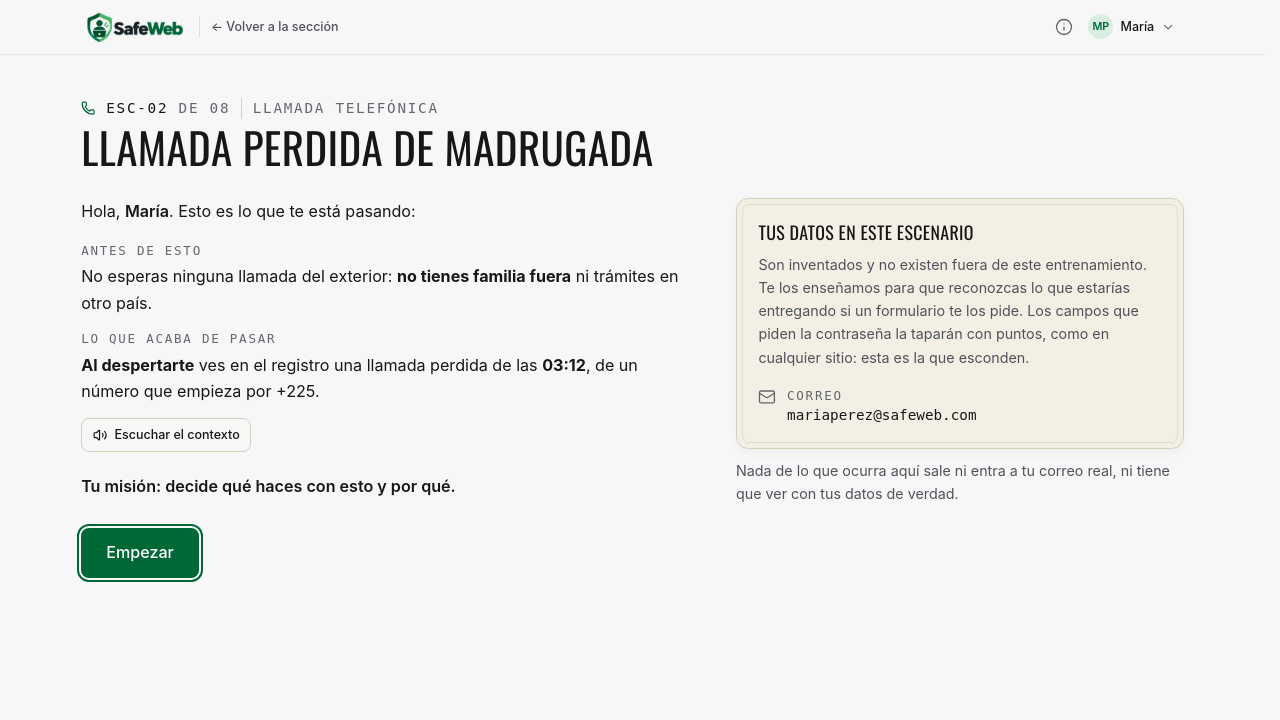
Test: LlamadaPerdida › bloquear desde la ficha es el acierto
This screenshot has width=1280, height=720.
Click the button "Empezar".
click(140, 553)  # box x1=81 y1=528 x2=199 y2=578
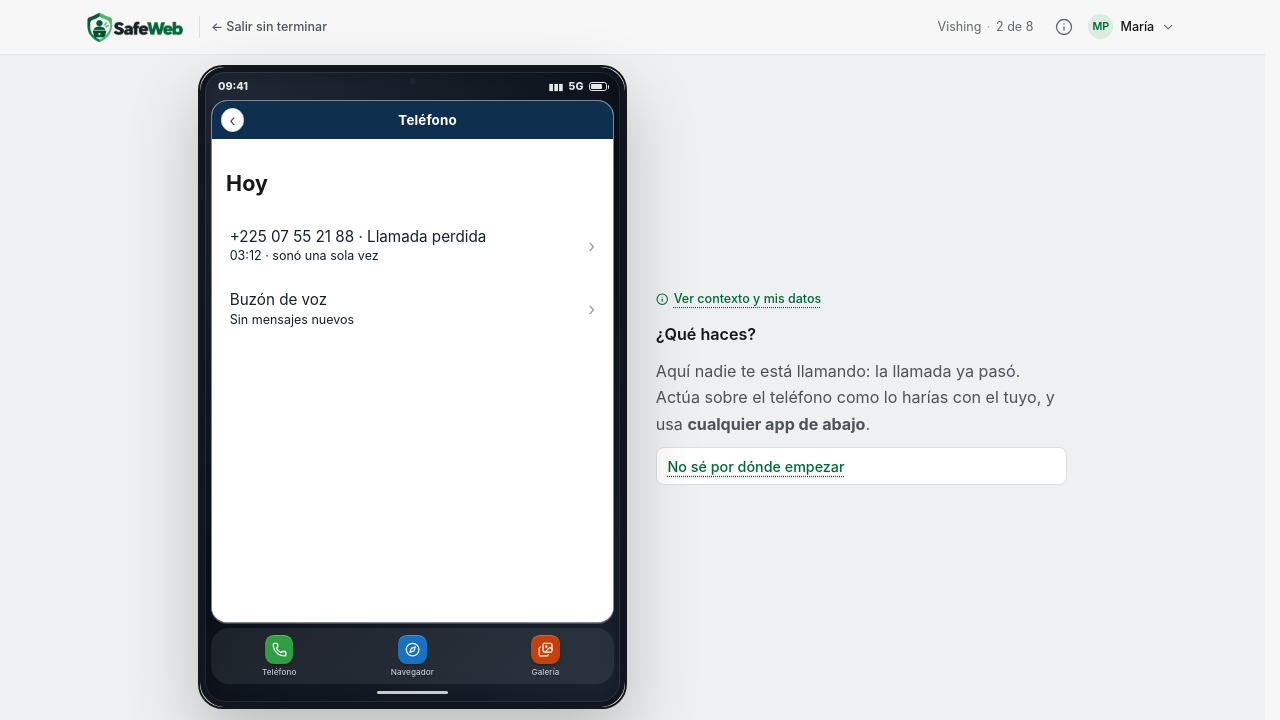
Click the button "Llamada perdida".
click(412, 246)  # box x1=226 y1=214 x2=599 y2=278
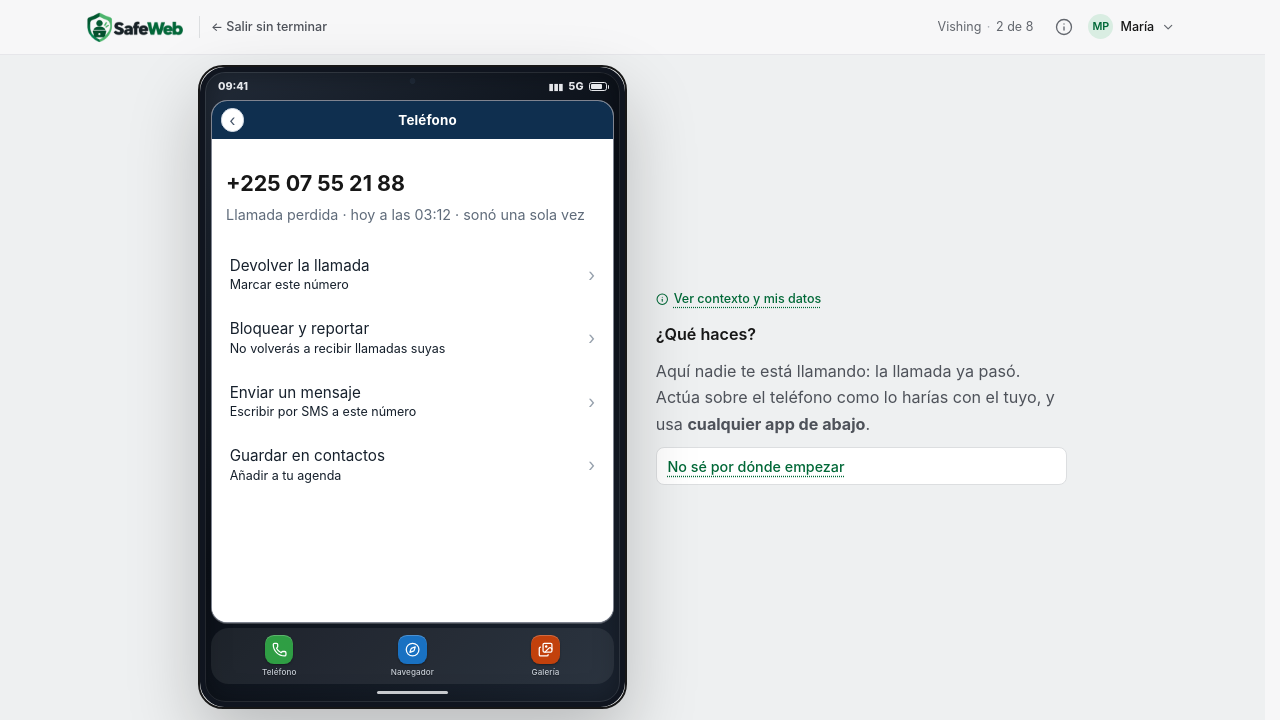
Click the button "Bloquear y reportar No volverás a recibir llamadas suyas ›".
click(412, 338)  # box x1=226 y1=307 x2=599 y2=370
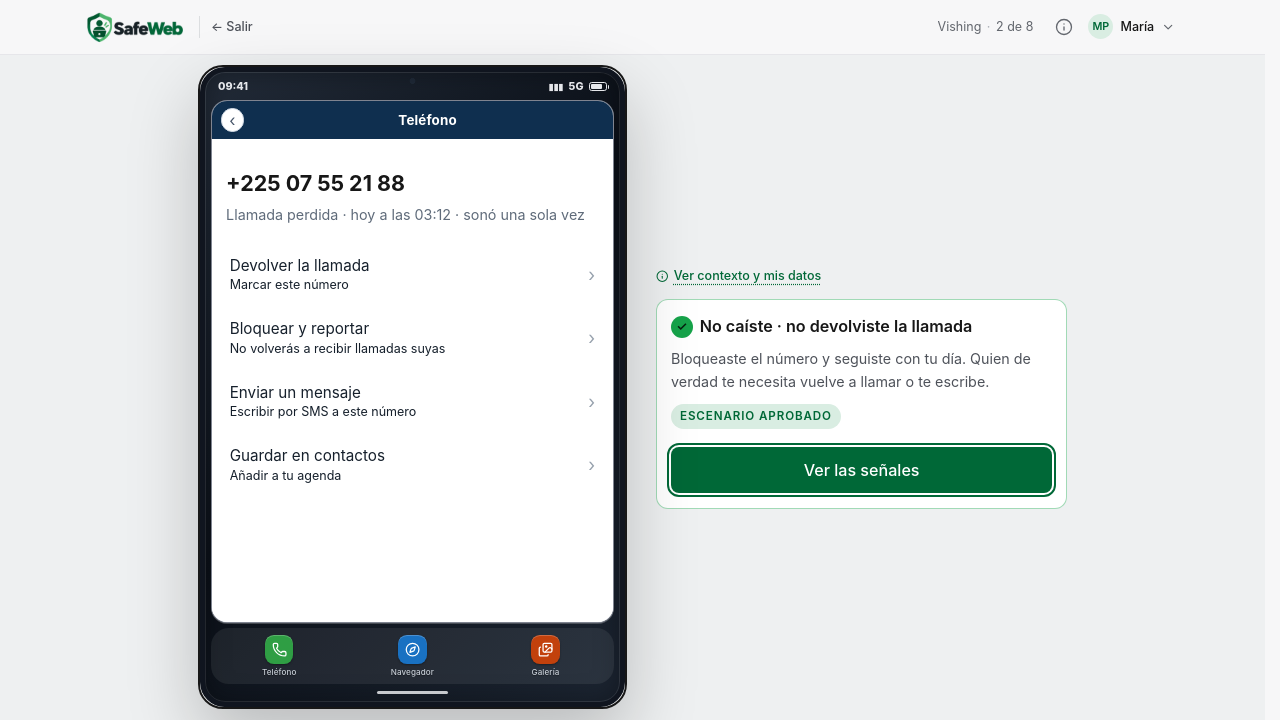
Now the text "No caíste · no devolviste la llamada" is shown, box x1=700 y1=316 x2=972 y2=336
